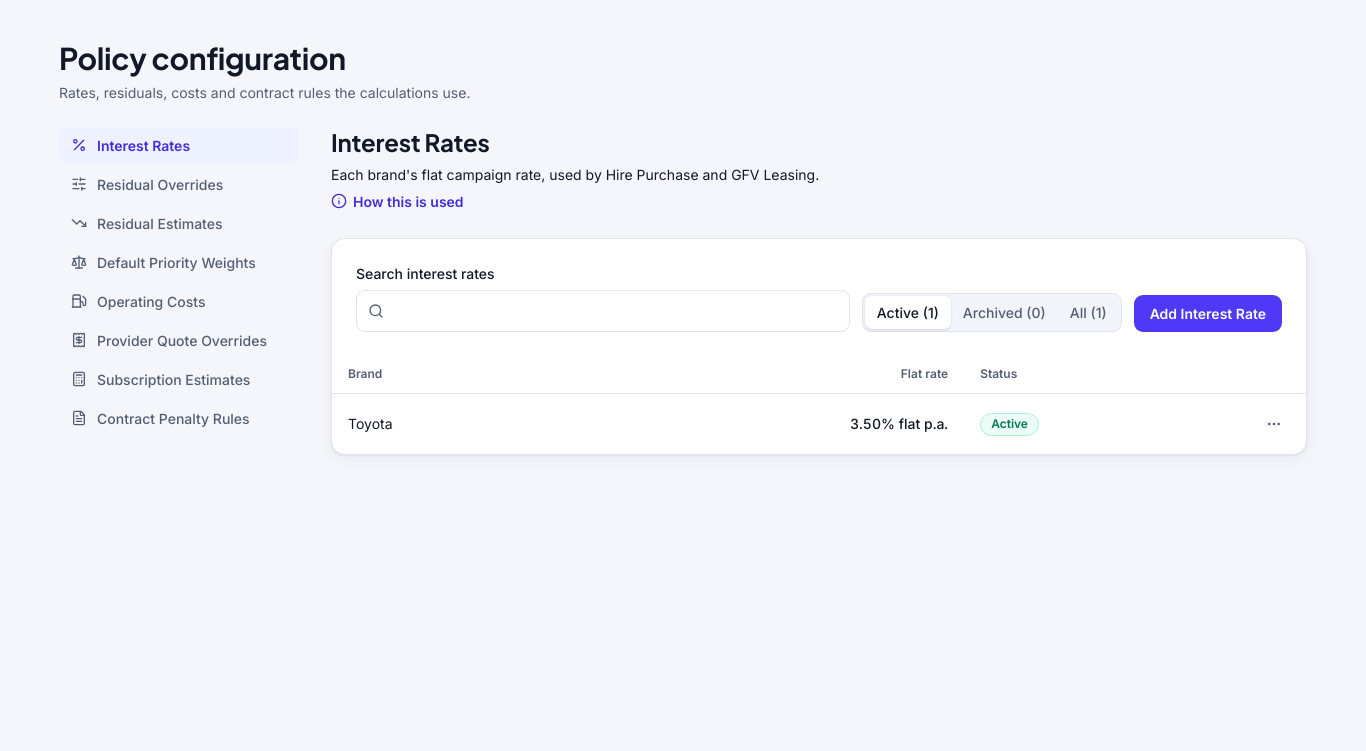
AdminPolicyPage › replaces the old Operating Cost Bands tab with a read-only Operating Costs tab
Expected: the text "3.50% flat p.a." is shown, [566, 394, 964, 454]
Click the tab "Operating Costs": [179, 301] box [59, 282, 299, 320]
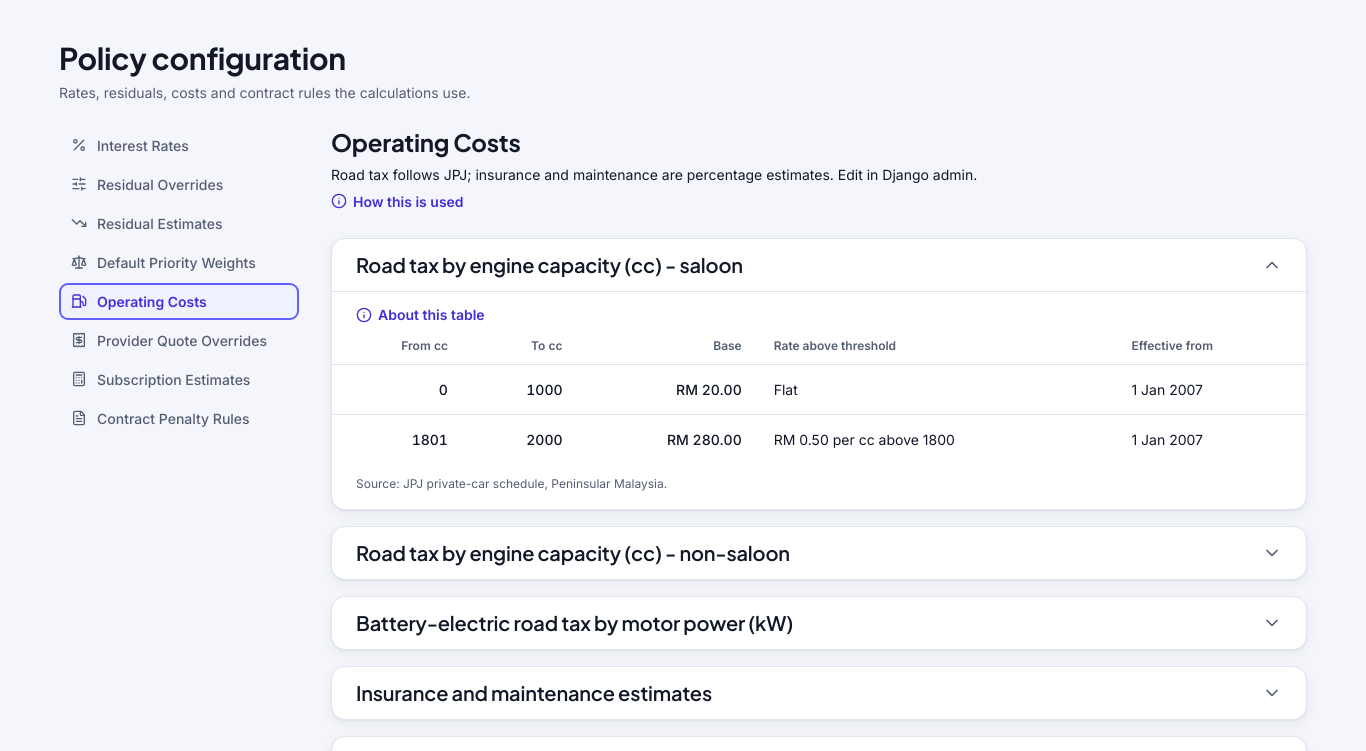
Now the text "Road tax follows JPJ; insurance and maintenance are percentage estimates. Edit in Django admin." is shown, box [331, 166, 977, 183]
Now the text "RM 0.50 per cc above 1800" is shown, box [758, 415, 1115, 464]
Now the heading "Road tax by engine capacity (cc) - saloon" is shown, box [356, 251, 743, 279]
